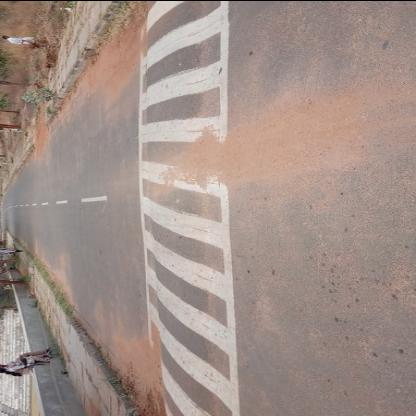speed-bumps: (132, 1, 258, 415)
